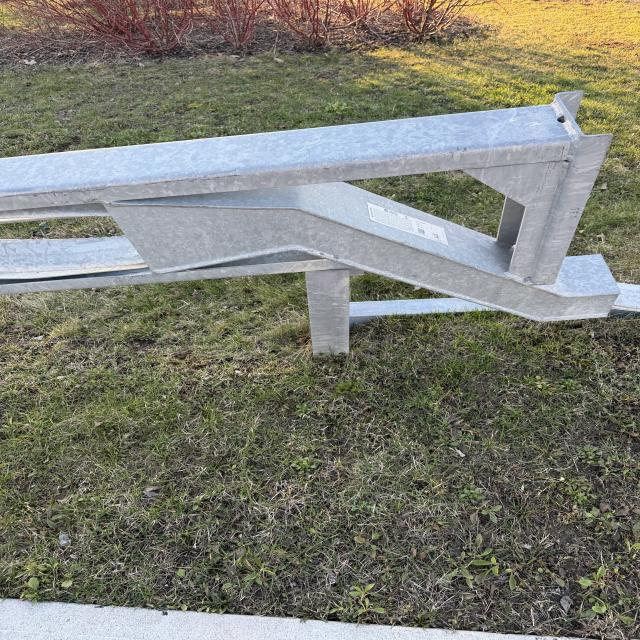Guard rail: (18, 113, 605, 278)
